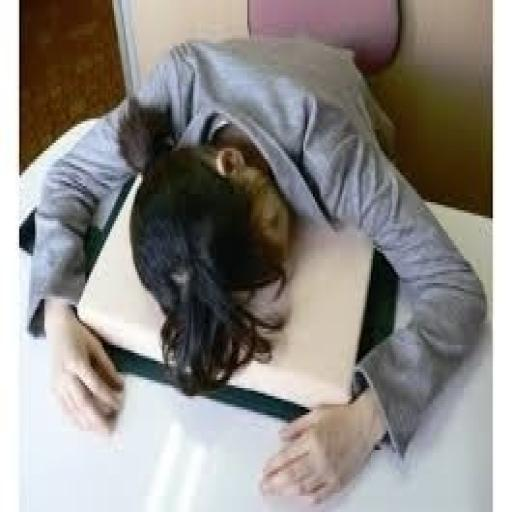sleeping: (25, 32, 487, 507)
